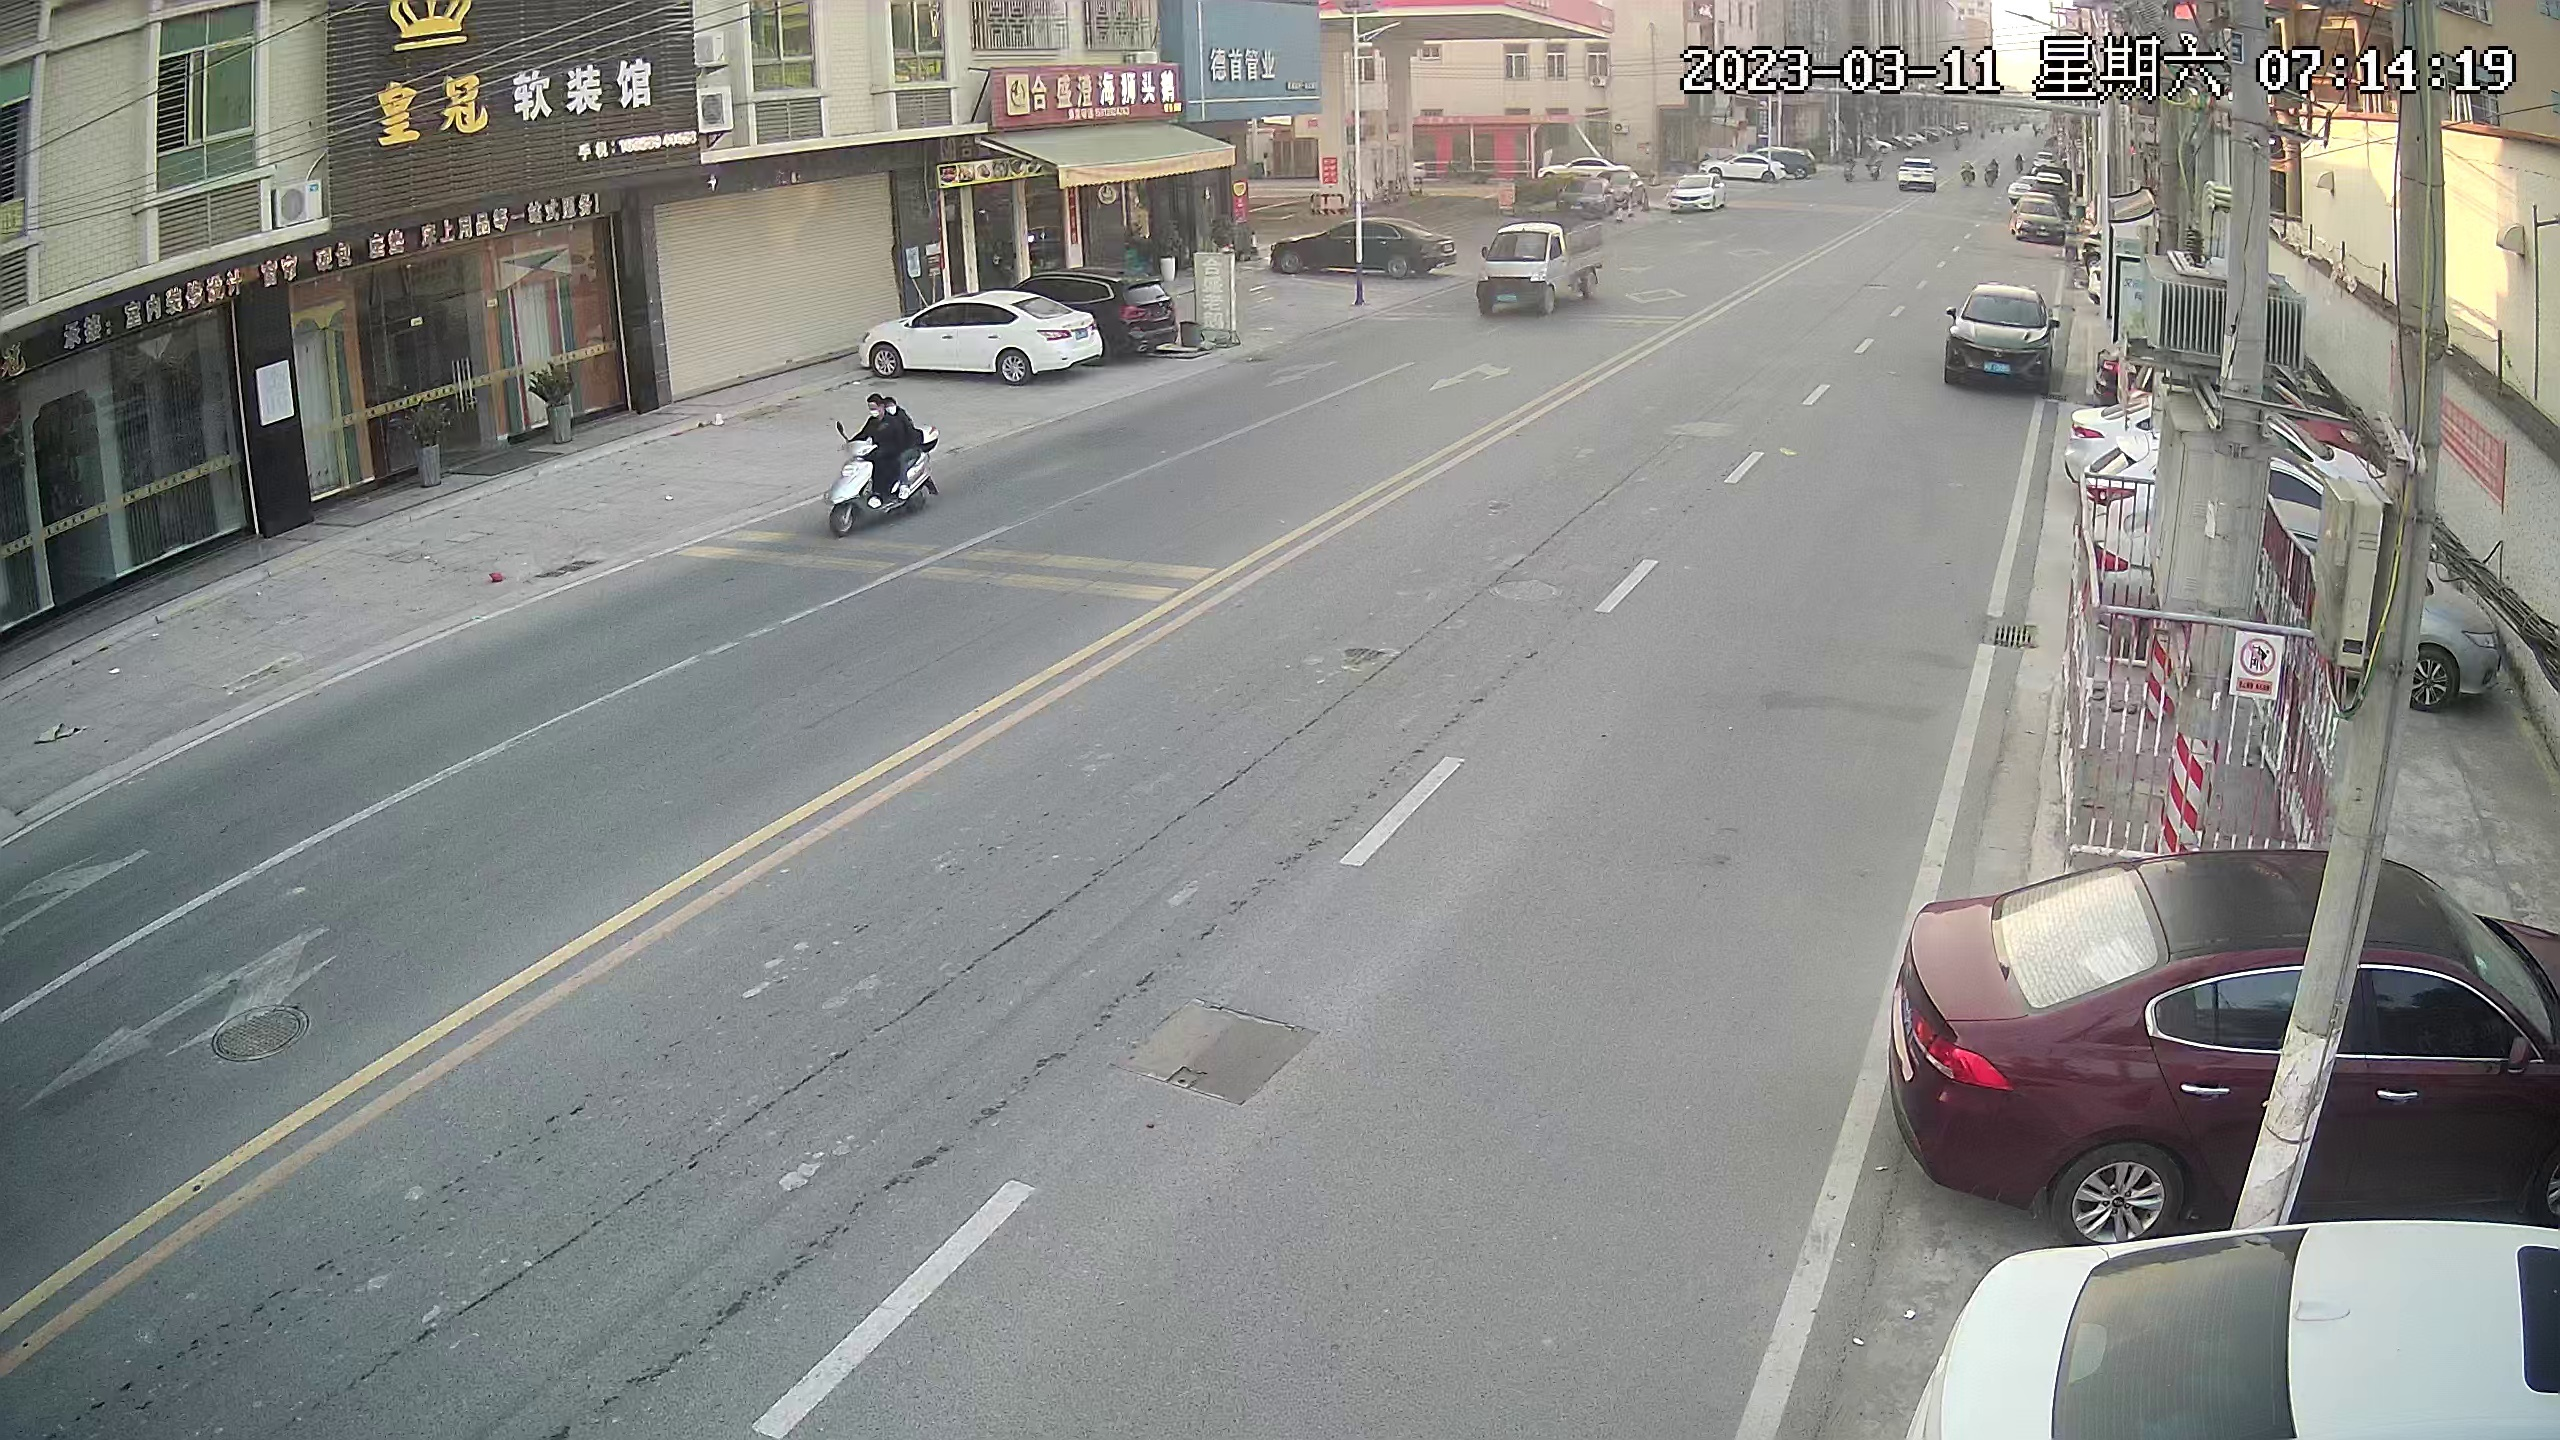motorcycle: (823, 389, 948, 535)
sedan: (1865, 844, 2560, 1196), (1931, 1224, 2560, 1440), (2105, 503, 2484, 675), (2089, 411, 2379, 508), (856, 295, 1099, 383), (1278, 222, 1454, 281), (1966, 281, 2055, 385), (1672, 174, 1732, 218), (1563, 178, 1619, 222), (1718, 153, 1793, 183), (2008, 199, 2064, 237), (2022, 164, 2064, 193)
suv: (1058, 269, 1182, 357), (1897, 156, 1945, 200)
truck: (1495, 220, 1607, 325)
